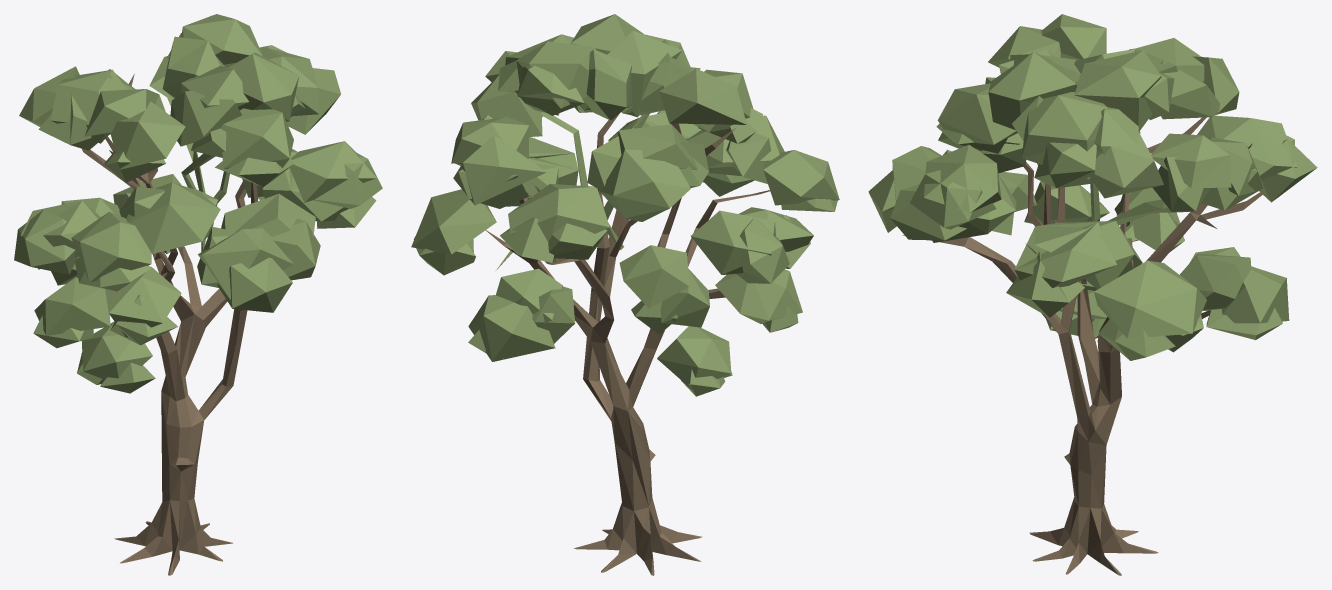
The model's file is oak-prepared.glb.
3 renders of one model, left to right at view 1: azimuth 30°, elevation 25°; view 2: azimuth 150°, elevation 25°; view 3: azimuth 270°, elevation 25°, orthographic. The views are drawn at different scales.
Bounding box in the file's own units: 5.08 × 7 × 5.43.
